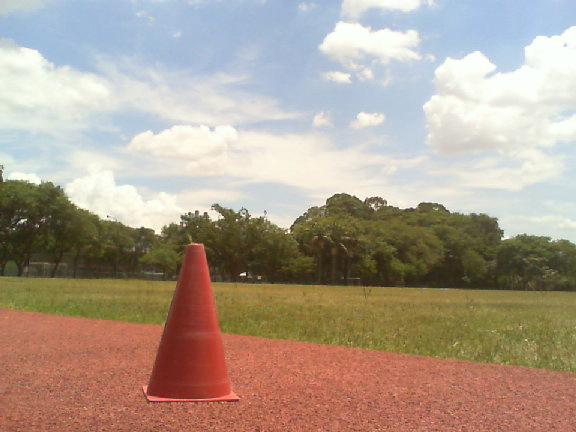0 cone: (141, 244, 238, 402)
